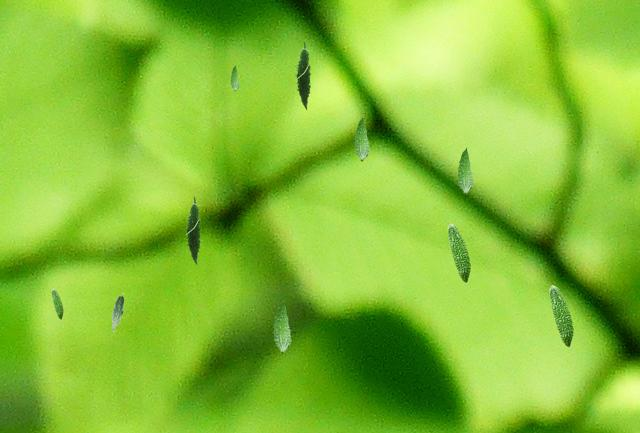ampalaya: (548, 284, 574, 350), (447, 223, 471, 285), (294, 40, 313, 110), (184, 195, 203, 265), (272, 300, 292, 354), (456, 146, 474, 195), (353, 116, 370, 161), (111, 292, 124, 332), (51, 288, 64, 321), (230, 64, 239, 91)
